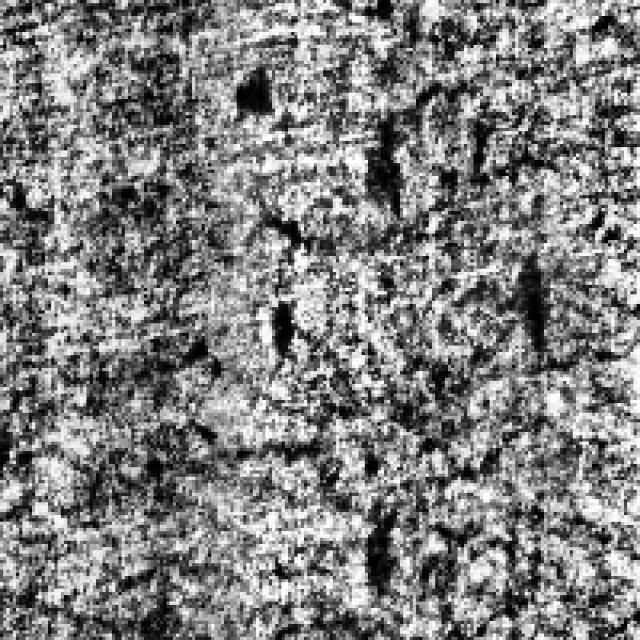Pitted_Surface: (0, 339, 630, 601), (230, 58, 573, 256)
